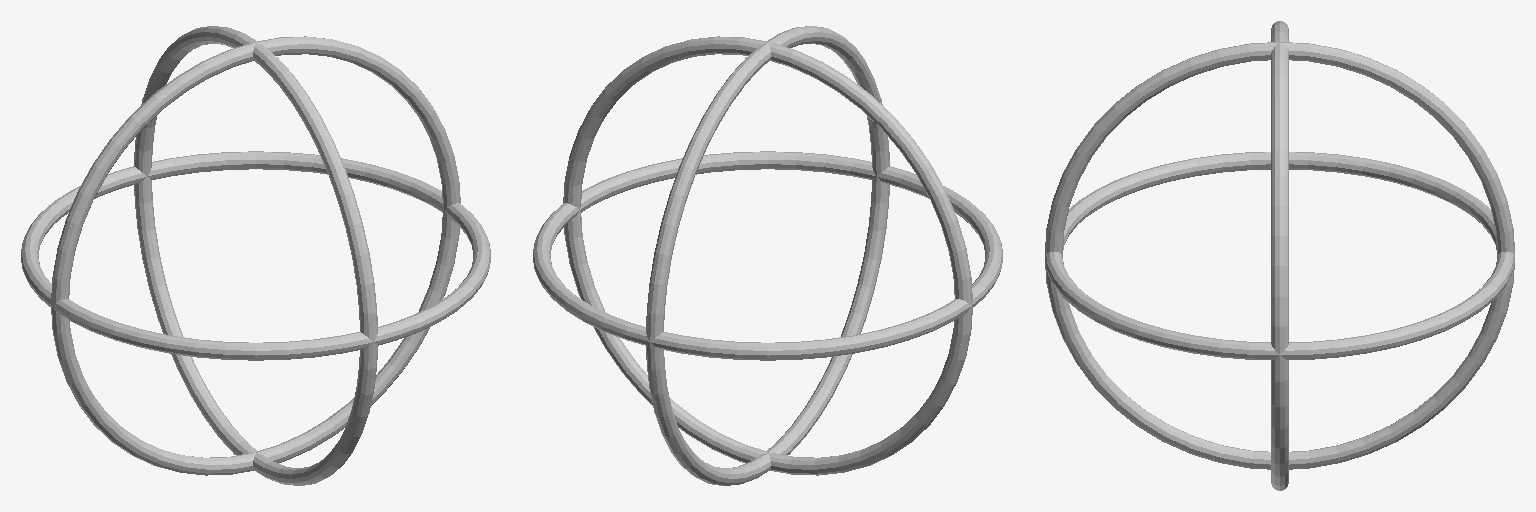
Rendered from gyro.obj.
3 renders of one model, left to right at view 1: azimuth 30°, elevation 25°; view 2: azimuth 150°, elevation 25°; view 3: azimuth 270°, elevation 25°, orthographic.
Visible parts, largest first — view 1: Torus.002; view 2: Torus.002; view 3: Torus.002.
Part boxes in pixels (left/top/right/bottom): Torus.002: left=21, top=26, right=490, bottom=485; Torus.002: left=533, top=26, right=1002, bottom=485; Torus.002: left=1045, top=21, right=1514, bottom=490.
Size of the model in its own units: 2.08 by 2.08 by 2.08.